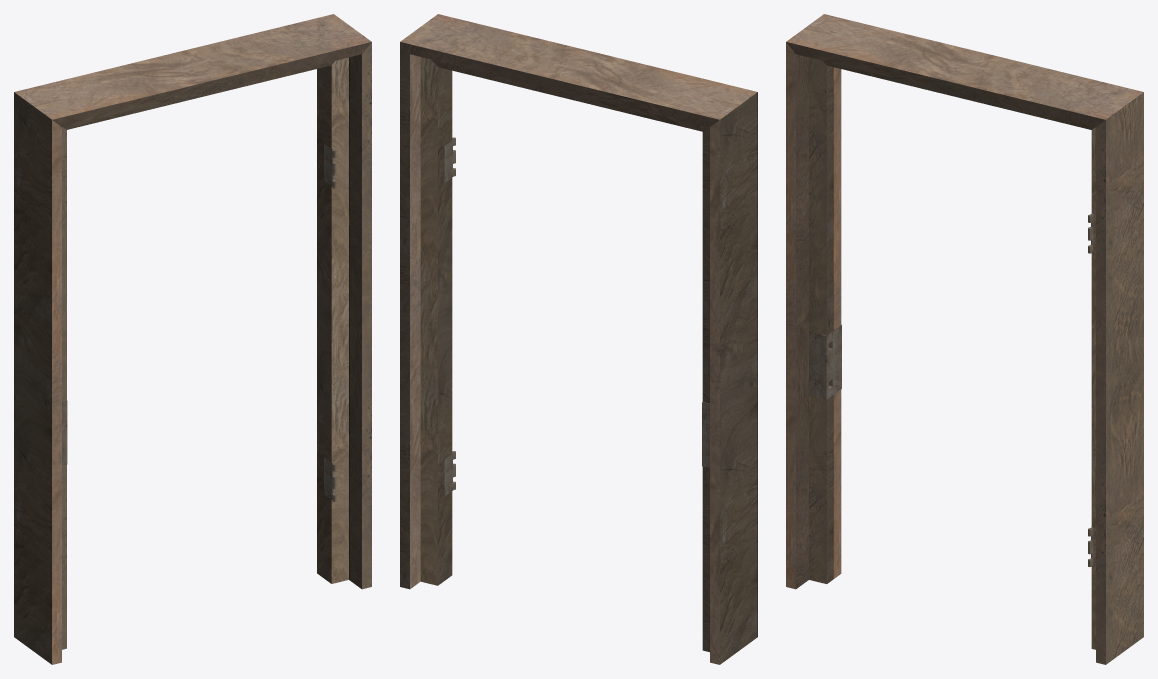
The model's file is WoodDoorTrimB.fbx.
The picture shows the model from 3 angles, left to right: view 1: azimuth 30°, elevation 25°; view 2: azimuth 150°, elevation 25°; view 3: azimuth 330°, elevation 25°; orthographic projection.
Visible parts, largest first — view 1: WoodDoorTrimB; view 2: WoodDoorTrimB; view 3: WoodDoorTrimB.
Part boxes in pixels (bbox=[...]): WoodDoorTrimB: bbox=[14, 14, 371, 664]; WoodDoorTrimB: bbox=[400, 14, 757, 664]; WoodDoorTrimB: bbox=[786, 14, 1143, 664].
Bounding box in the file's own units: 152 × 248 × 31.37.
